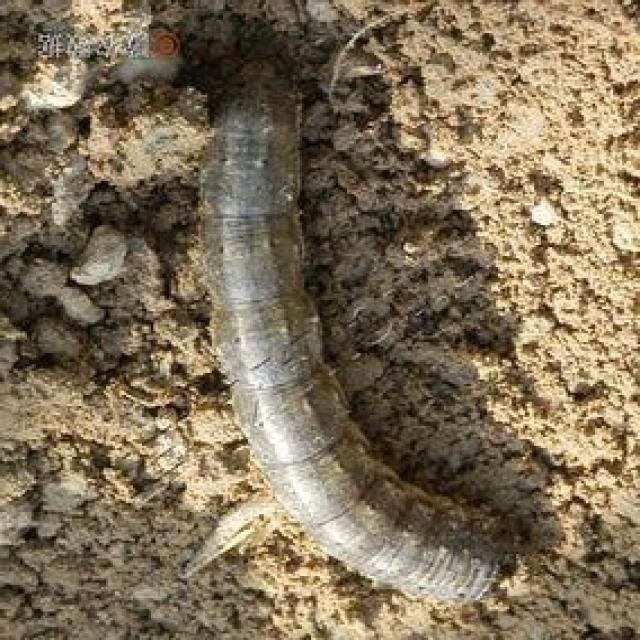black cutworm: (194, 62, 534, 607)
